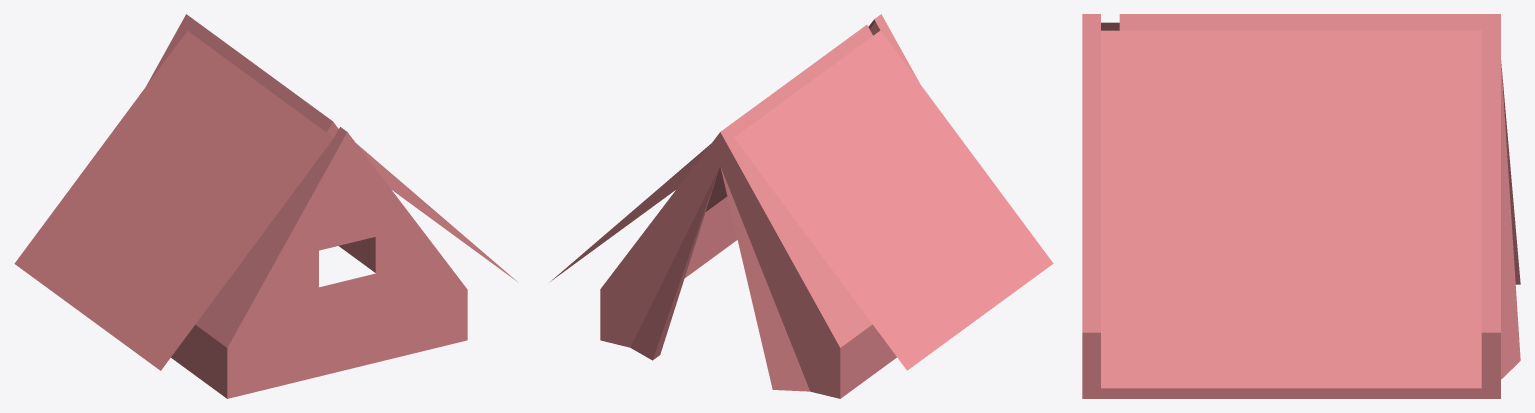
Rendered from kenneyTentCloth.glb.
3 views of the same model, side by side, from view 1: azimuth 30°, elevation 25°; view 2: azimuth 150°, elevation 25°; view 3: azimuth 270°, elevation 25° (orthographic). The views are drawn at different scales.
Parts seen in each view (by area): view 1: tentClothing; view 2: tentClothing; view 3: tentClothing.
Part boxes in pixels (left/top/right/bottom): tentClothing: left=14, top=14, right=517, bottom=398; tentClothing: left=550, top=14, right=1053, bottom=398; tentClothing: left=1082, top=14, right=1520, bottom=398.
Size of the model in its own units: 0.8181 by 0.518 by 0.6664.
